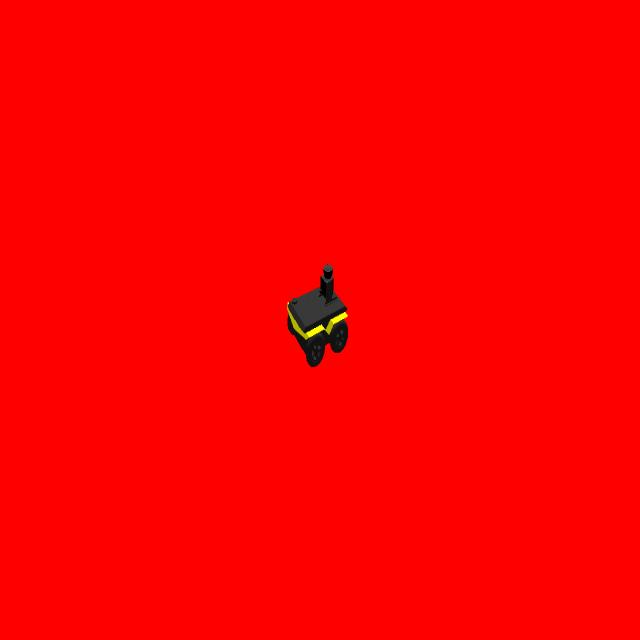jackal: (285, 257, 351, 369)
